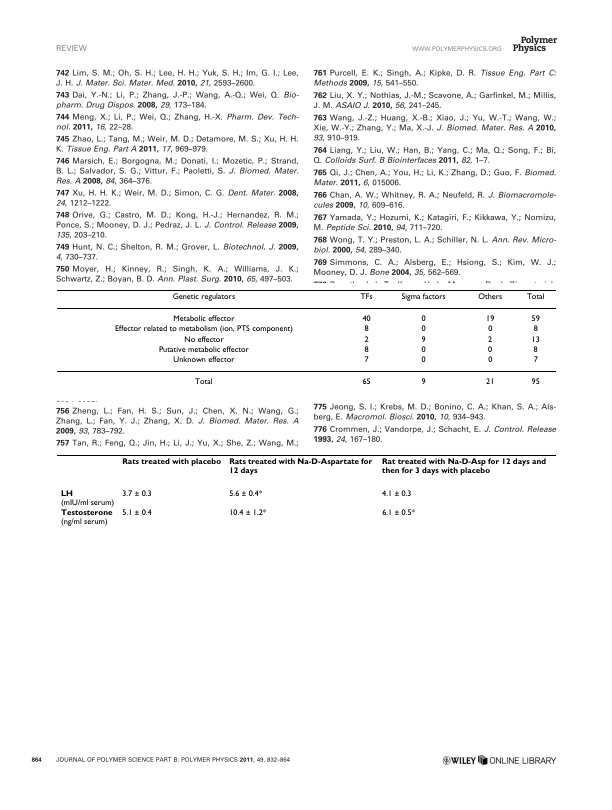borderless: (55, 288, 557, 395), (55, 453, 557, 535)
cell: (381, 458, 546, 476), (228, 458, 373, 476), (113, 325, 293, 335), (59, 489, 115, 508), (59, 509, 113, 527), (157, 345, 249, 355), (121, 458, 222, 467), (171, 292, 236, 302), (172, 315, 235, 324), (172, 356, 235, 365), (400, 292, 446, 302), (183, 335, 224, 345), (228, 508, 267, 518), (228, 489, 263, 499), (381, 508, 415, 518), (121, 489, 152, 499), (381, 489, 412, 499), (121, 508, 152, 518), (477, 292, 503, 302), (525, 292, 545, 302), (194, 378, 213, 388), (359, 292, 373, 302), (530, 335, 540, 345), (361, 378, 371, 388), (485, 378, 495, 388), (530, 378, 540, 388), (361, 315, 371, 324), (485, 315, 495, 324), (530, 315, 540, 324), (363, 325, 369, 335), (420, 325, 426, 335), (487, 325, 493, 335), (532, 325, 538, 335), (363, 335, 369, 345), (420, 335, 426, 345), (487, 335, 493, 345), (363, 345, 369, 355), (420, 345, 426, 355), (487, 345, 493, 355), (532, 345, 538, 355), (420, 378, 426, 388), (420, 315, 426, 324), (363, 356, 369, 365), (420, 356, 426, 365), (487, 356, 493, 365), (532, 356, 538, 365)
